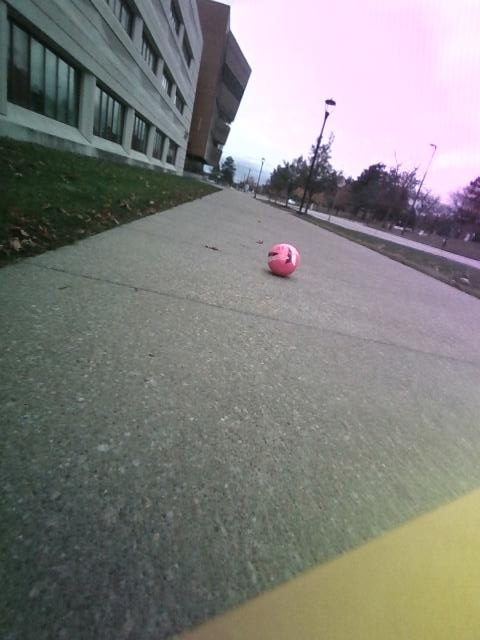ball: (268, 243, 299, 276)
